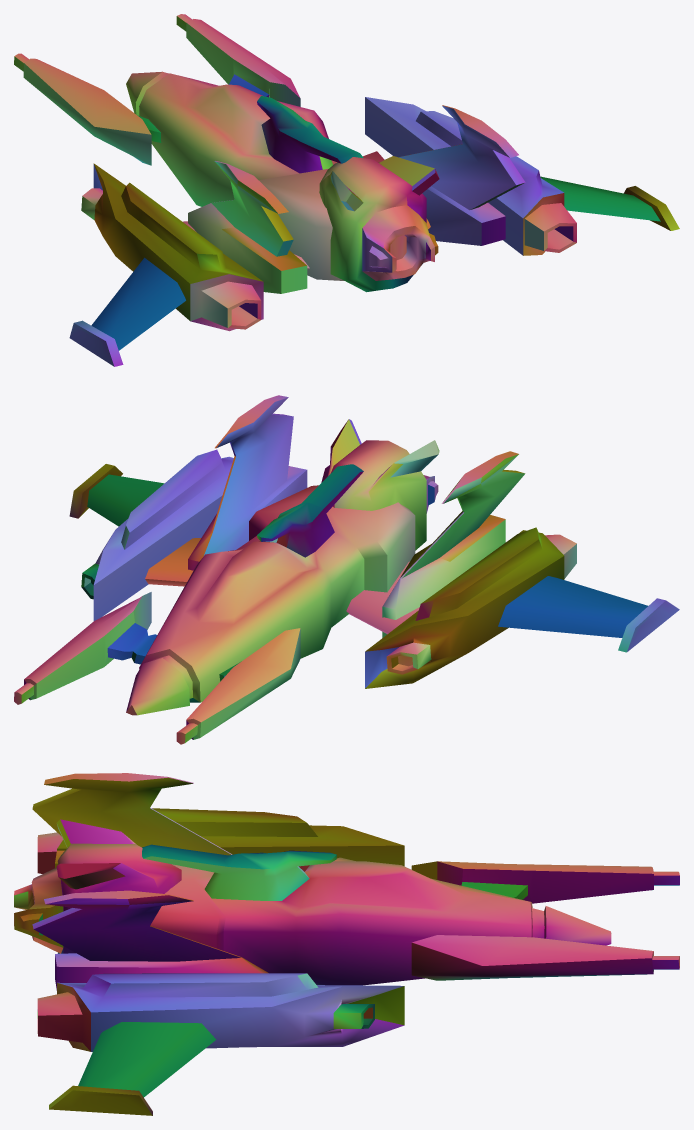
The model's file is navinha.fbx.
3 views of the same model, one above another, from view 1: azimuth 30°, elevation 25°; view 2: azimuth 150°, elevation 25°; view 3: azimuth 270°, elevation 25° (orthographic). The views are drawn at different scales.
Visible parts, largest first — view 1: navinha, turbinaCentral, turbinaEsquerda, asa3Direita, turbinaDireita, asa3Esquerda, canhaoEsquerdo, asa2Esquerda, canhaoDireito, asa2Direita; view 2: navinha, turbinaEsquerda, turbinaDireita, asa3Direita, asa3Esquerda, asa2Esquerda, turbinaCentral, canhaoDireito, canhaoEsquerdo, asa2Direita, asaEsquerda, asaDireita; view 3: navinha, turbinaDireita, asa3Direita, canhaoDireito, asa2Direita, turbinaCentral, turbinaEsquerda, asa3Esquerda, canhaoEsquerdo.
Part boxes in pixels (x1,y1,x2,y2): navinha: [126, 71, 384, 280]; turbinaCentral: [319, 156, 439, 292]; turbinaEsquerda: [81, 163, 263, 331]; asa3Direita: [399, 105, 525, 245]; turbinaDireita: [365, 97, 576, 255]; asa3Esquerda: [188, 161, 307, 293]; canhaoEsquerdo: [14, 53, 161, 165]; asa2Esquerda: [69, 257, 185, 366]; canhaoDireito: [176, 14, 300, 106]; asa2Direita: [540, 176, 679, 230]; navinha: [126, 464, 415, 715]; turbinaEsquerda: [365, 527, 576, 688]; turbinaDireita: [81, 449, 233, 620]; asa3Direita: [188, 395, 307, 570]; asa3Esquerda: [382, 451, 525, 637]; asa2Esquerda: [498, 576, 679, 652]; turbinaCentral: [321, 419, 439, 550]; canhaoDireito: [14, 592, 157, 704]; canhaoEsquerdo: [176, 628, 300, 744]; asa2Direita: [69, 464, 164, 526]; asaEsquerda: [346, 561, 419, 634]; asaDireita: [145, 538, 200, 586]; navinha: [142, 844, 611, 985]; turbinaDireita: [37, 973, 404, 1051]; asa3Direita: [32, 890, 268, 990]; canhaoDireito: [411, 935, 679, 980]; asa2Direita: [49, 1022, 216, 1115]; turbinaCentral: [14, 819, 181, 953]; turbinaEsquerda: [37, 808, 404, 873]; asa3Esquerda: [32, 773, 232, 867]; canhaoEsquerdo: [411, 861, 679, 903].
Size of the model in its own units: 15.1 by 3.68 by 14.55.
